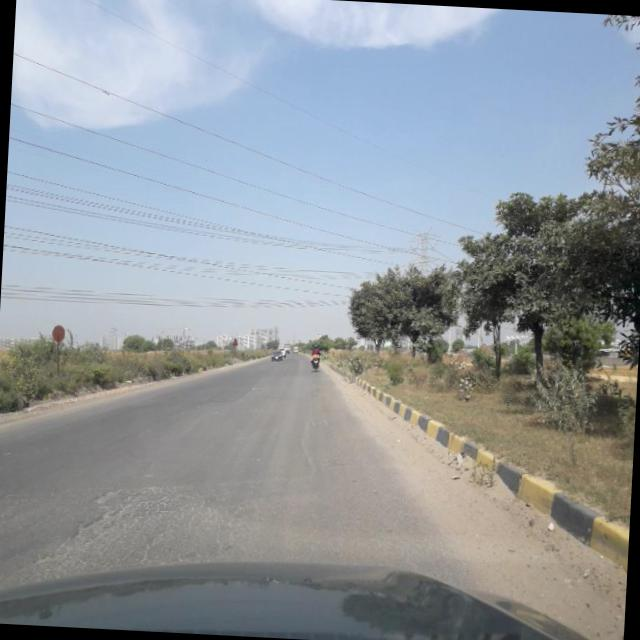crack: (22, 469, 237, 566)
